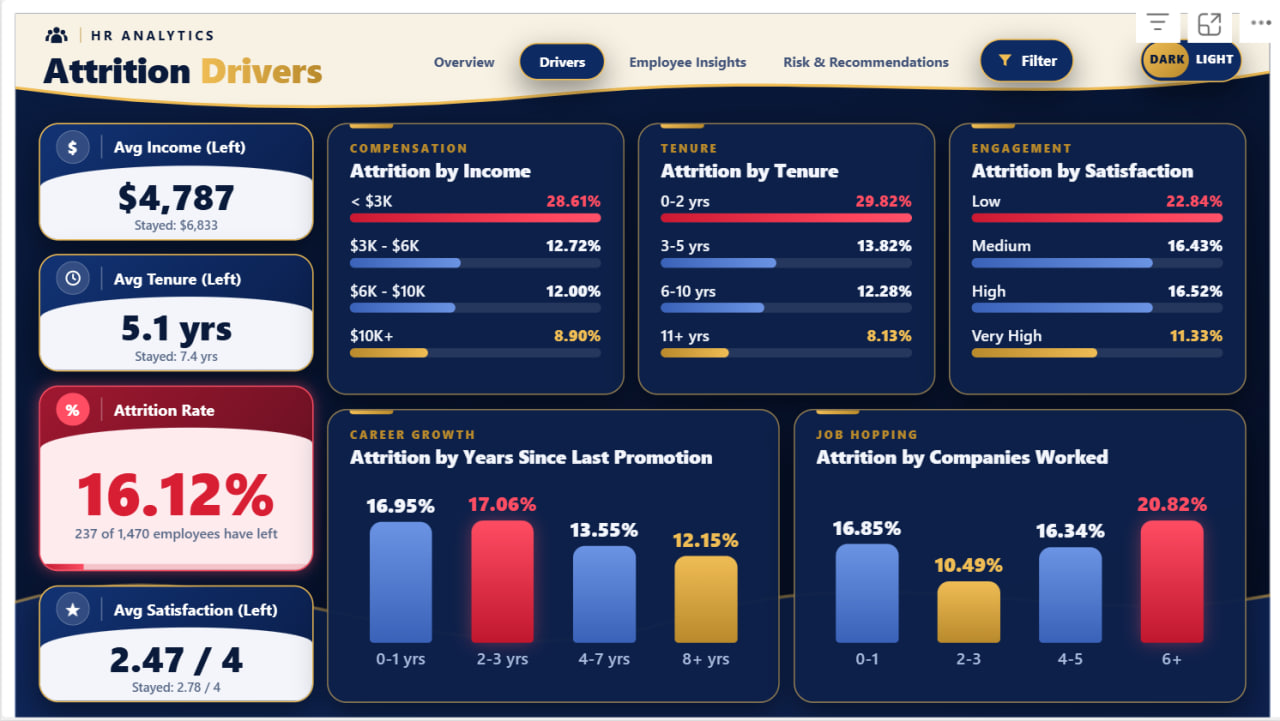

The dashboard page shown, as its layout file describes it:
{"tool":"powerbi","page":{"name":"Drivers HTML","canvas":[1280,720],"ordinal":2},"visuals":[{"type":"htmlContent443BE3AD55E043BF878BED274D3A6855","fields":{"content":["DAX.HR Drivers HTML"]},"box":[0,0,1280.8,719.2],"z":0},{"type":"actionButton","box":[415.1,39.6,100,40],"z":9000},{"type":"actionButton","box":[618.9,43.4,137.7,41.5],"z":10000},{"type":"actionButton","box":[773.6,43.4,173.6,39.6],"z":11000},{"type":"actionButton","box":[39.6,26.4,358.5,71.7],"z":12000}]}

Visuals, with their boxes on the page's 1280x720 design canvas (x1, y1, x2, y2). These are canvas units, not pixel positions in the 1280x721 screenshot, which may show the page scaled, cropped or inside an application window:
htmlContent443BE3AD55E043BF878BED274D3A6855 - DAX.HR Drivers HTML: <bbox>0, 0, 1281, 719</bbox>
actionButton: <bbox>415, 40, 515, 80</bbox>
actionButton: <bbox>619, 43, 757, 85</bbox>
actionButton: <bbox>774, 43, 947, 83</bbox>
actionButton: <bbox>40, 26, 398, 98</bbox>
